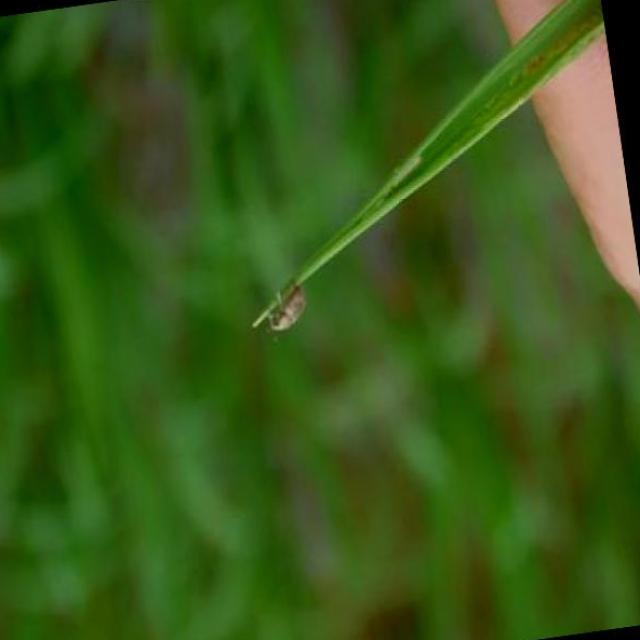ricebug: (268, 284, 306, 332)
